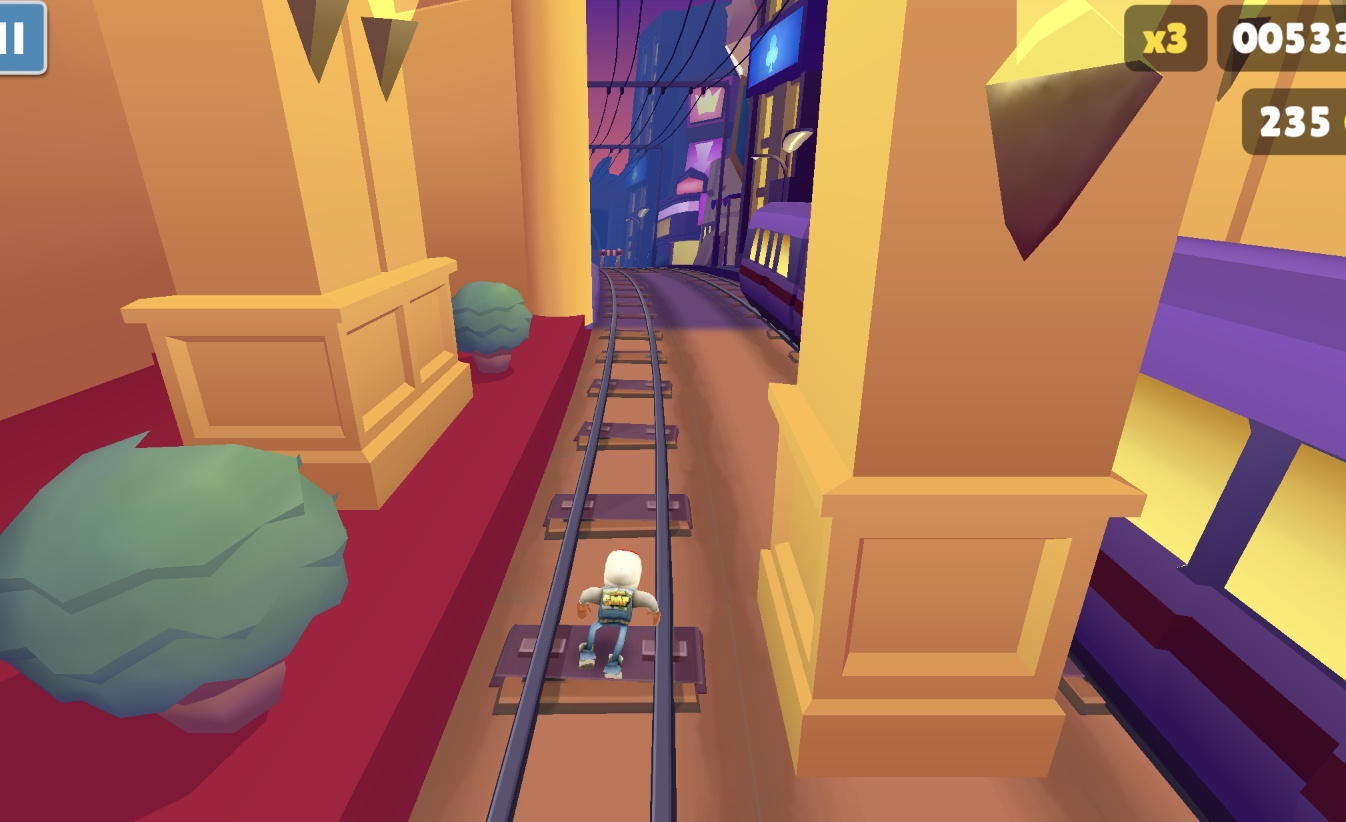ground_barrier: (590, 250, 616, 278)
pillar: (762, 0, 1346, 766)
train: (1120, 230, 1346, 822), (740, 202, 808, 336)
